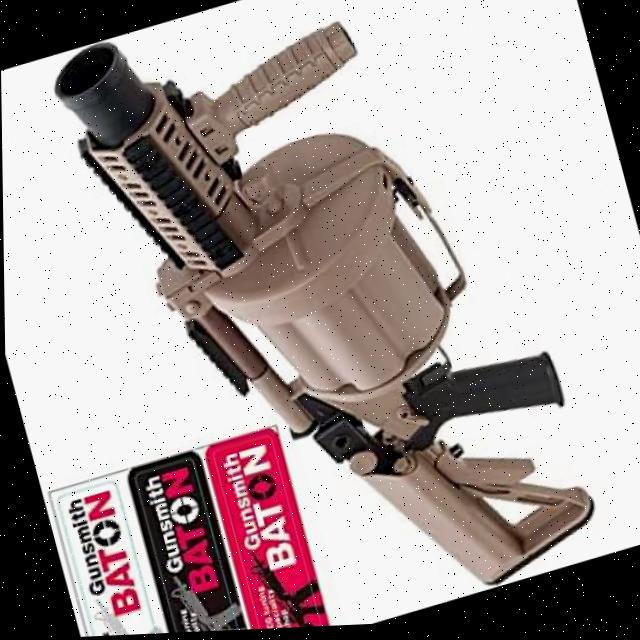rocket: (42, 0, 603, 639)
